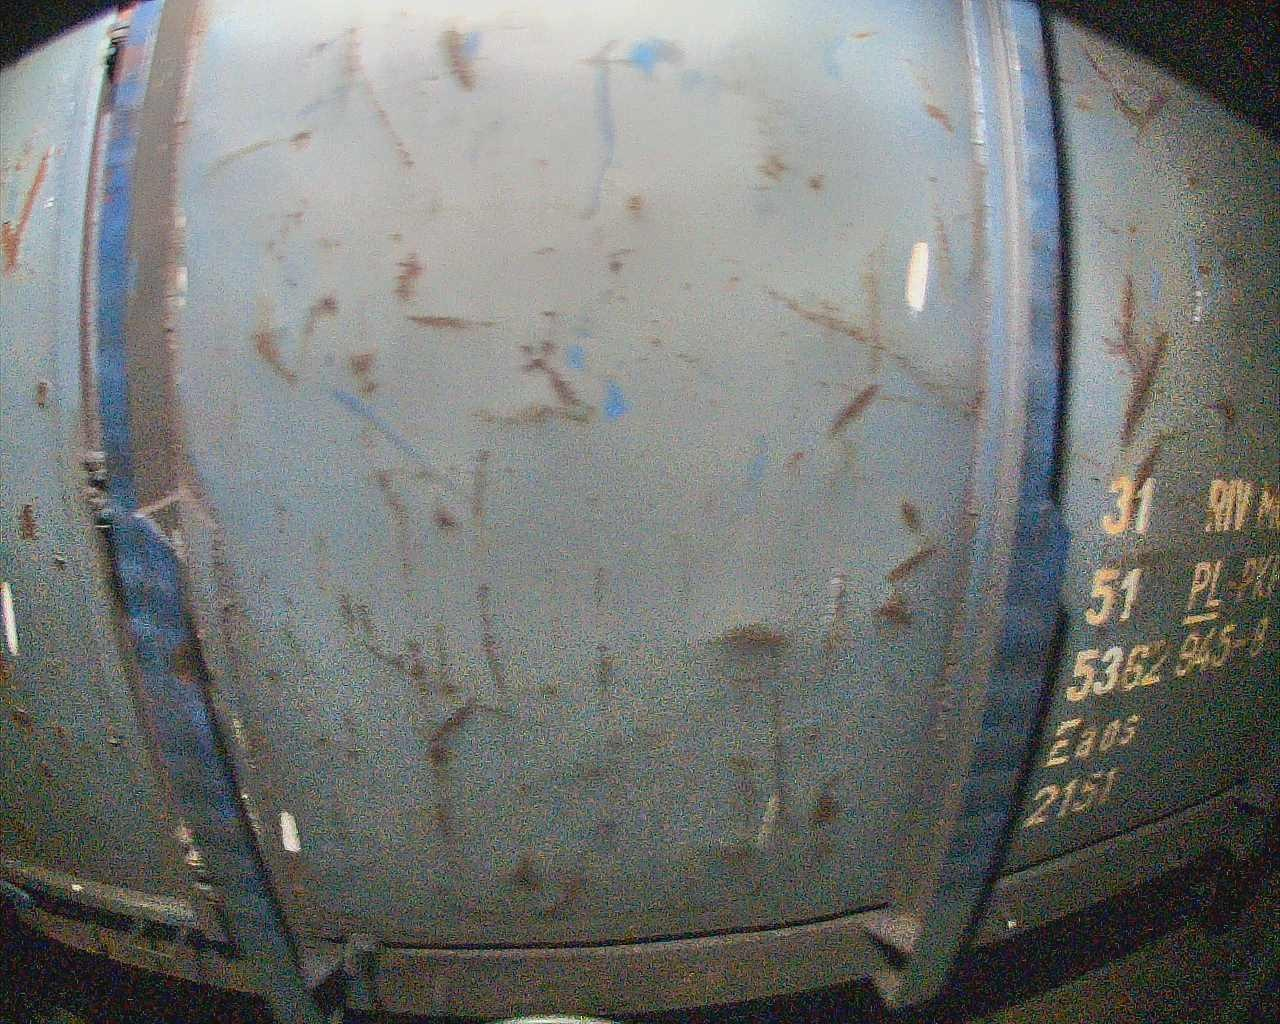UIC: (1020, 475, 1280, 833)
